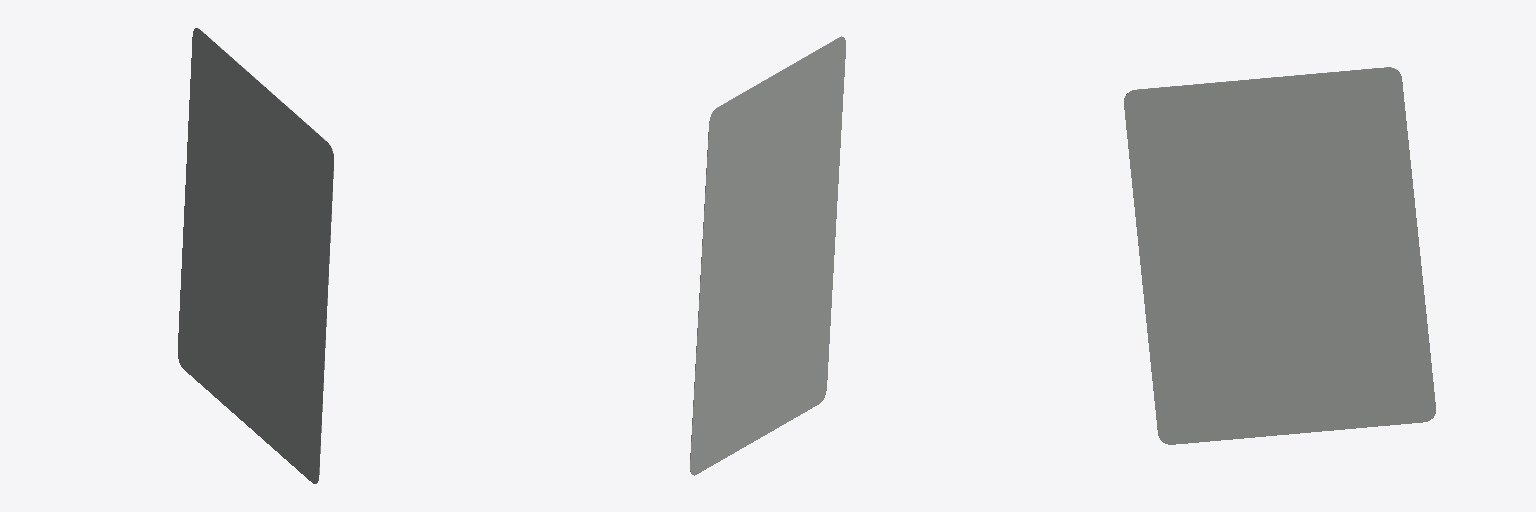
The model's file is card.obj.
3 views of the same model, side by side, from view 1: azimuth 30°, elevation 25°; view 2: azimuth 150°, elevation 25°; view 3: azimuth 270°, elevation 25° (orthographic).
Visible parts, largest first — view 1: plastik_c0; view 2: plastik_c0; view 3: plastik_c0.
Boxes of the visible parts, x1=… form: plastik_c0: x1=178, y1=28, x2=333, y2=483; plastik_c0: x1=690, y1=36, x2=845, y2=475; plastik_c0: x1=1124, y1=67, x2=1435, y2=444.
Size of the model in its own units: 0.0163 by 1.22 by 0.9169.